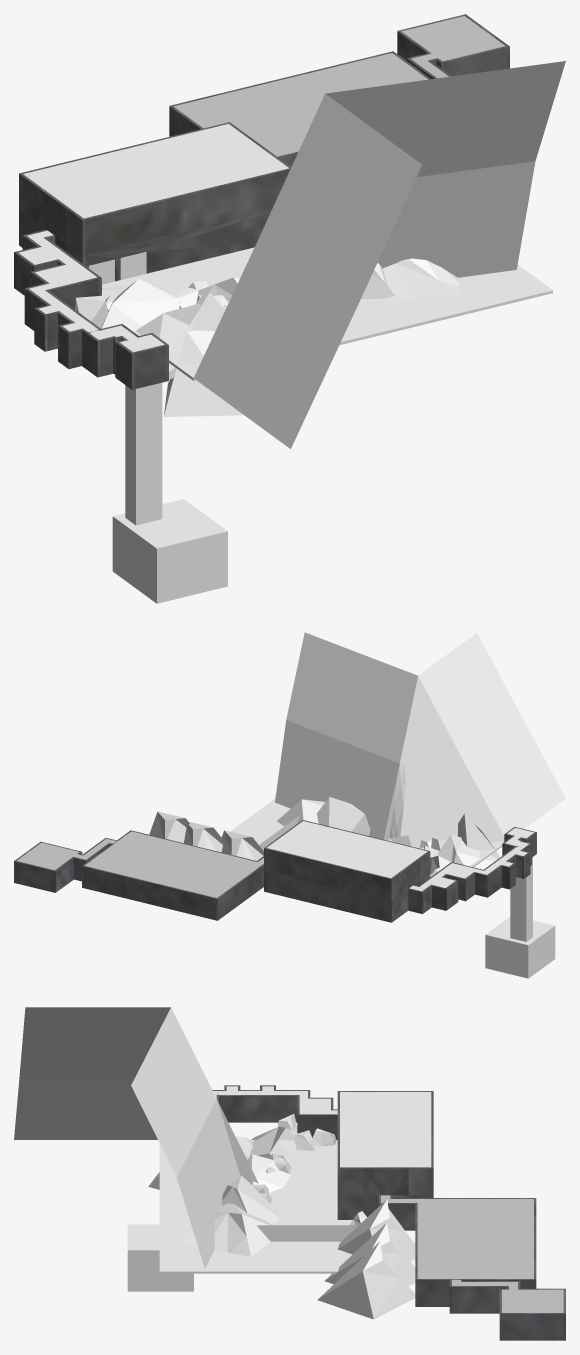
File: map 1 fix.fbx
The picture shows the model from 3 angles, top to bottom: view 1: azimuth 30°, elevation 25°; view 2: azimuth 150°, elevation 25°; view 3: azimuth 270°, elevation 25°; orthographic projection. The views are drawn at different scales.
Visible parts, largest first — view 1: Object_4, Object_24, Object_23, Object_1_3, Object_3_3, Object_6, Object_1_2, Object_18, Object_9, Object_59, Object_60, Object_26 (+8 smaller); view 2: Object_4, Object_1_3, Object_3_3, Object_1_2, Object_24, Object_23, Object_37, Object_6, Object_25, Object_60, Object_18, Object_9 (+11 smaller); view 3: Object_4, Object_18, Object_1_2, Object_24, Object_23, Object_1_3, Object_6, Object_3_3, Object_5, Object_20, Object_9, Object_43_2 (+8 smaller).
Boxes of the visible parts, x1,y1,x2,y2 form: Object_4: [14, 14, 509, 389]; Object_24: [259, 94, 421, 307]; Object_23: [194, 237, 356, 448]; Object_1_3: [325, 61, 565, 177]; Object_3_3: [377, 161, 535, 277]; Object_6: [23, 124, 288, 218]; Object_1_2: [174, 16, 504, 156]; Object_18: [102, 247, 552, 380]; Object_9: [112, 499, 227, 603]; Object_59: [125, 382, 162, 525]; Object_60: [112, 499, 227, 603]; Object_26: [163, 292, 243, 416]; Object_4: [14, 820, 536, 922]; Object_1_3: [286, 632, 417, 763]; Object_3_3: [275, 720, 399, 839]; Object_1_2: [17, 831, 263, 897]; Object_24: [418, 633, 521, 758]; Object_23: [463, 716, 565, 835]; Object_37: [400, 759, 504, 847]; Object_6: [267, 821, 427, 878]; Object_25: [400, 676, 462, 763]; Object_60: [485, 920, 555, 978]; Object_18: [230, 799, 503, 875]; Object_9: [485, 917, 555, 978]; Object_4: [212, 1085, 565, 1340]; Object_18: [159, 1140, 337, 1273]; Object_1_2: [381, 1195, 563, 1312]; Object_24: [19, 1007, 170, 1074]; Object_23: [14, 1074, 157, 1139]; Object_1_3: [131, 1007, 216, 1176]; Object_6: [340, 1092, 431, 1167]; Object_3_3: [177, 1099, 240, 1268]; Object_5: [317, 1241, 415, 1319]; Object_20: [182, 1203, 273, 1256]; Object_9: [127, 1224, 193, 1291]; Object_43_2: [337, 1199, 415, 1261].
Size of the model in its own units: 237 by 242 by 160.
Materials: 5 (2 with a texture image).
